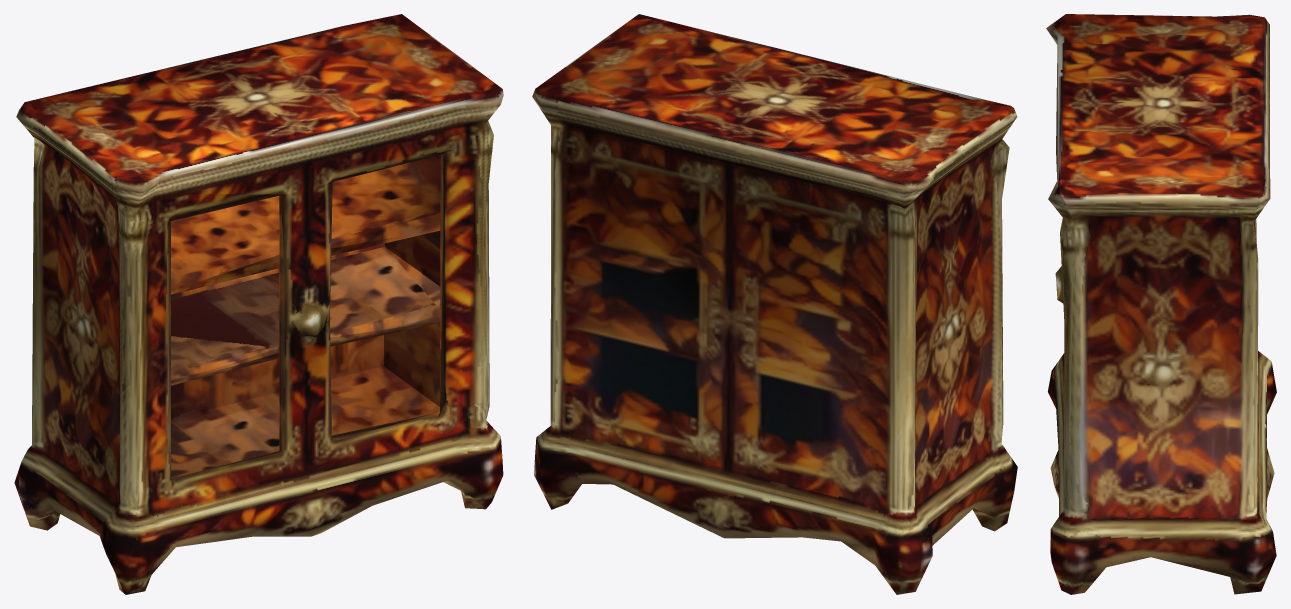
File: marquetry-cabinet.glb
3 renders of one model, left to right at view 1: azimuth 30°, elevation 25°; view 2: azimuth 150°, elevation 25°; view 3: azimuth 270°, elevation 25°, orthographic. The views are drawn at different scales.
Visible parts, largest first — view 1: geometry_0.001; view 2: geometry_0.001; view 3: geometry_0.001.
Boxes of the visible parts, x1,y1,x2,y2 form: geometry_0.001: (14, 14, 503, 594); geometry_0.001: (532, 14, 1017, 594); geometry_0.001: (1046, 14, 1276, 594).
Bounding box in the file's own units: 0.9869 × 0.9974 × 0.5125.
Materials: 1 (1 with a texture image).
